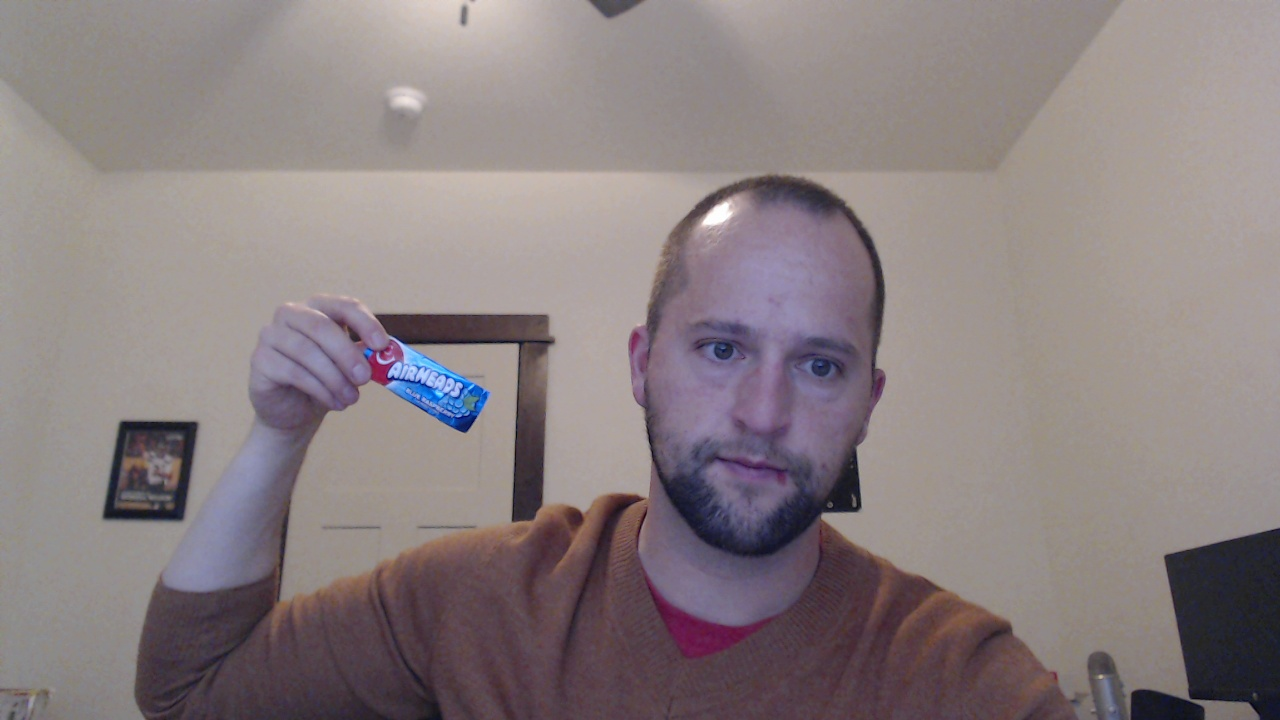airheads: (359, 325, 512, 454)
